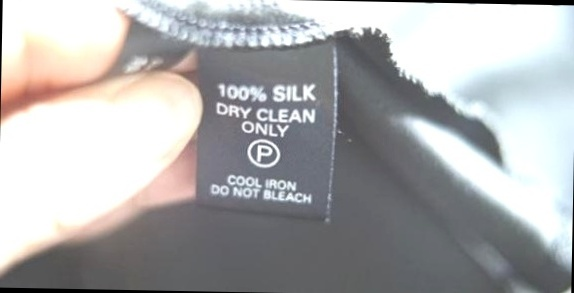dry_clean_any_solvent_except_trichloroethylene: (248, 137, 282, 168)
